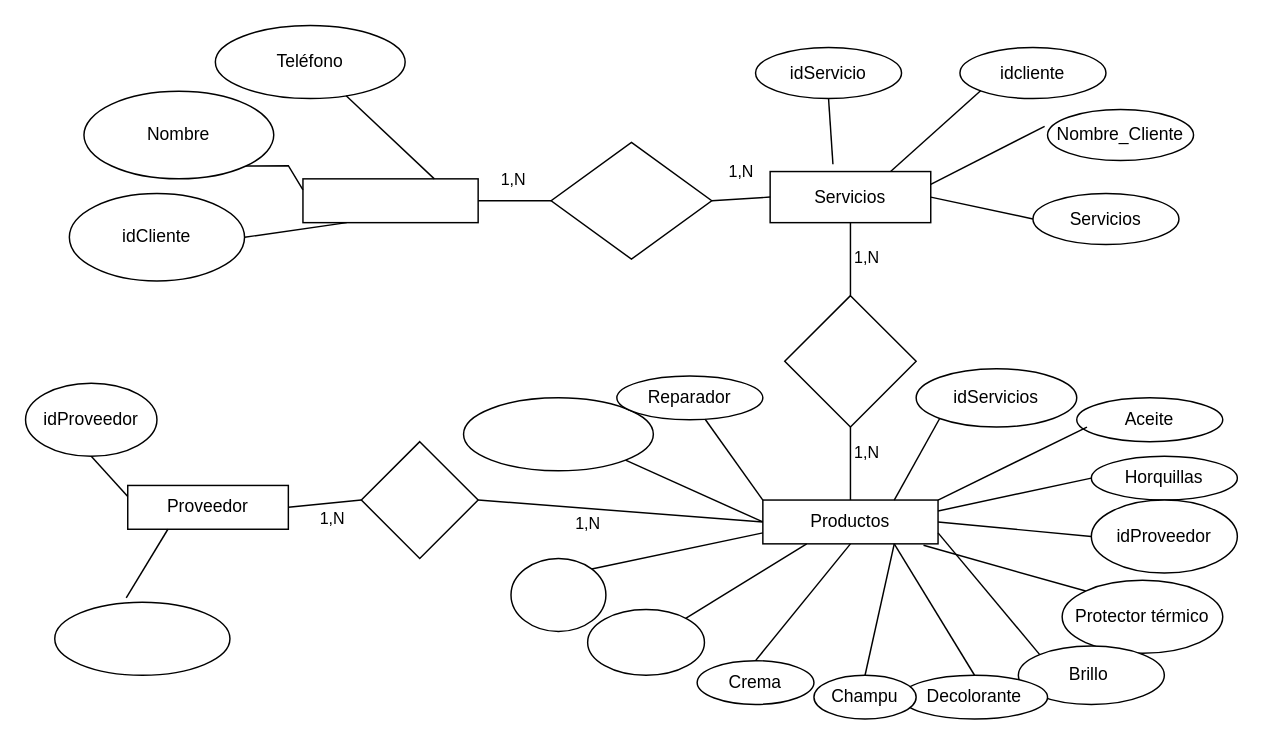
Some shapes in this 1263 by 745 pixel diagram are drawn without their labels. Here are the shapes that lost their labels. From the top down, the box of each, then its label:
(301, 177, 478, 223): Cliente
(550, 141, 712, 259): Pide
(783, 294, 916, 427): Necesita
(462, 396, 653, 471): idProductos
(360, 440, 478, 558): Repone
(510, 557, 606, 631): Tintura
(53, 601, 230, 675): Pedido
(586, 608, 704, 675): Oxidante
